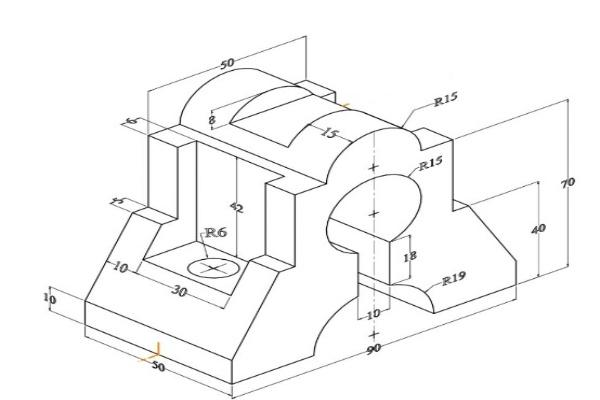dimensions: (426, 91, 466, 112), (439, 266, 473, 287), (418, 153, 447, 176), (167, 281, 193, 304), (557, 173, 582, 194), (527, 221, 554, 239), (365, 338, 385, 360), (217, 52, 237, 73), (401, 249, 424, 265), (319, 124, 339, 142), (366, 305, 386, 322), (110, 189, 125, 211), (112, 259, 131, 276), (227, 196, 244, 215), (37, 290, 57, 306), (122, 111, 140, 128), (149, 359, 167, 376), (206, 110, 218, 127)
